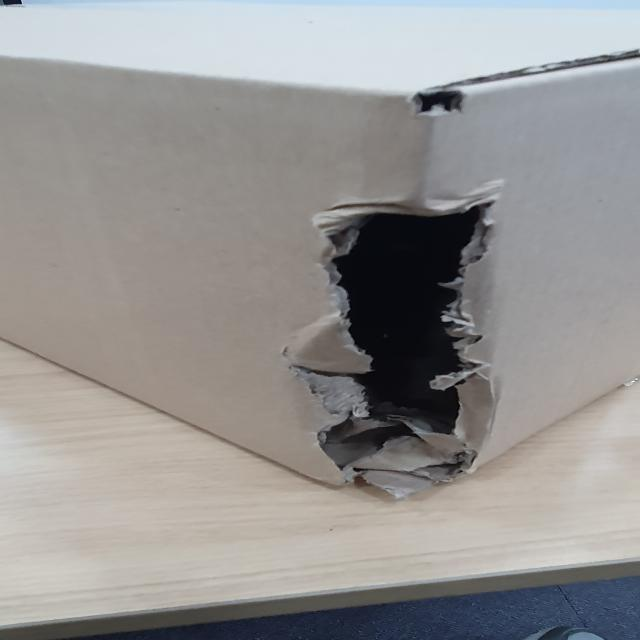hole: (277, 179, 507, 492)
